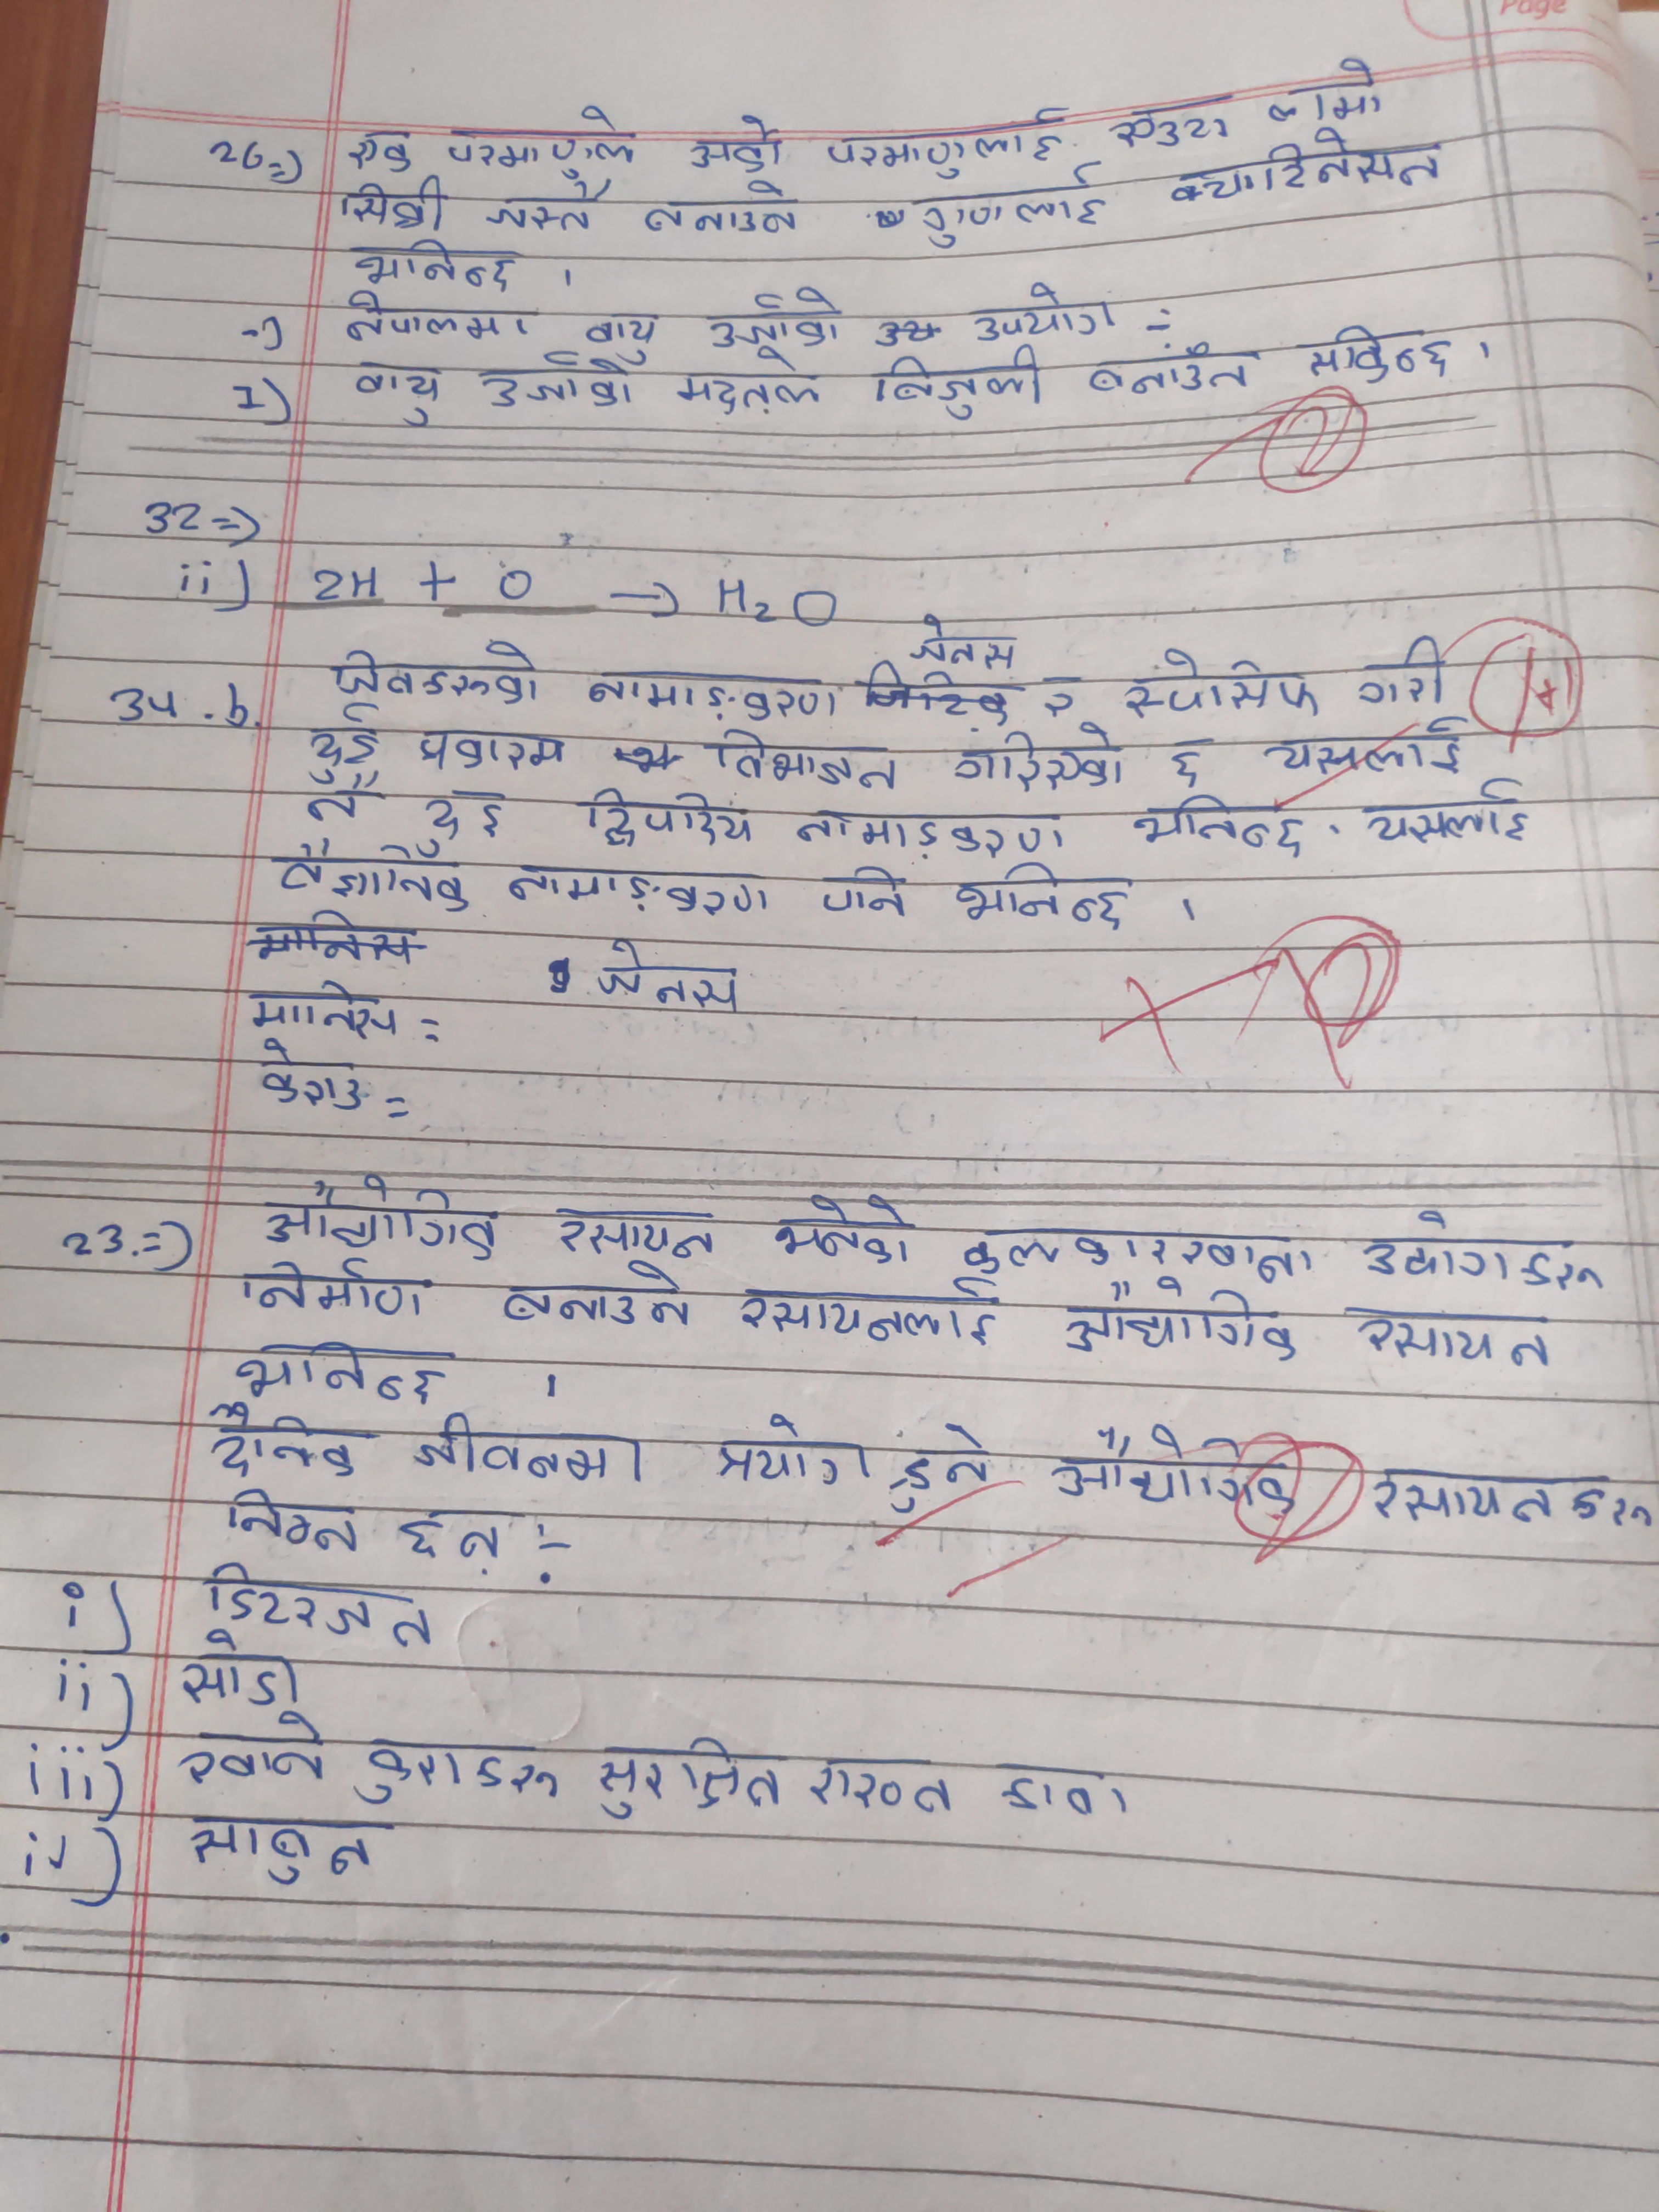text: (1361, 1454, 1654, 1540), (1162, 132, 1457, 212), (1046, 1426, 1305, 1517), (258, 1170, 505, 1264), (953, 1219, 1317, 1282), (1359, 1207, 1601, 1299), (1054, 1282, 1300, 1371), (410, 1404, 660, 1489), (209, 1559, 432, 1649), (580, 1735, 788, 1831), (786, 799, 1077, 866), (737, 1270, 1000, 1343), (179, 1799, 387, 1888), (821, 106, 1063, 181), (343, 1733, 563, 1811), (328, 634, 542, 712), (505, 859, 774, 920), (1121, 641, 1324, 719), (579, 665, 854, 723), (491, 1264, 702, 1339), (228, 1334, 448, 1406), (1351, 1301, 1560, 1374), (708, 1407, 875, 1498), (444, 106, 645, 181), (272, 840, 471, 914), (169, 1712, 333, 1801), (897, 183, 1114, 249), (950, 857, 1136, 932), (1351, 779, 1541, 852), (702, 730, 908, 796), (870, 345, 1049, 420), (577, 782, 760, 855), (1262, 721, 1485, 780), (770, 1184, 918, 1273), (237, 1256, 432, 1322), (589, 935, 746, 1017), (805, 1747, 962, 1827), (335, 287, 538, 348), (951, 730, 1131, 798), (471, 348, 638, 418), (220, 1484, 368, 1562), (1302, 320, 1467, 390), (547, 1204, 725, 1268), (207, 1409, 368, 1480), (882, 1421, 999, 1519), (1134, 794, 1310, 857), (671, 347, 823, 418), (1079, 347, 1269, 402), (167, 1639, 310, 1712), (246, 977, 401, 1043), (350, 237, 523, 296), (965, 280, 1124, 343), (638, 181, 809, 239), (1265, 54, 1389, 132), (702, 287, 857, 347), (343, 347, 444, 432), (410, 723, 577, 773), (992, 1763, 1131, 1820), (901, 606, 1025, 671), (254, 1042, 364, 1113), (479, 178, 612, 235), (396, 1507, 516, 1568), (1105, 99, 1244, 152), (809, 860, 924, 923), (1361, 631, 1446, 712), (413, 780, 505, 853), (338, 174, 448, 235), (685, 113, 786, 176), (307, 709, 382, 787), (584, 307, 664, 364), (343, 127, 422, 183), (1159, 732, 1223, 798), (296, 772, 369, 824), (1033, 674, 1079, 730)
